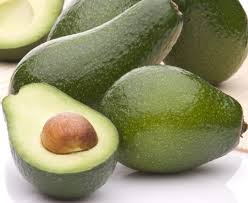aguacate: (98, 56, 244, 180), (5, 4, 184, 96), (4, 83, 117, 193)
